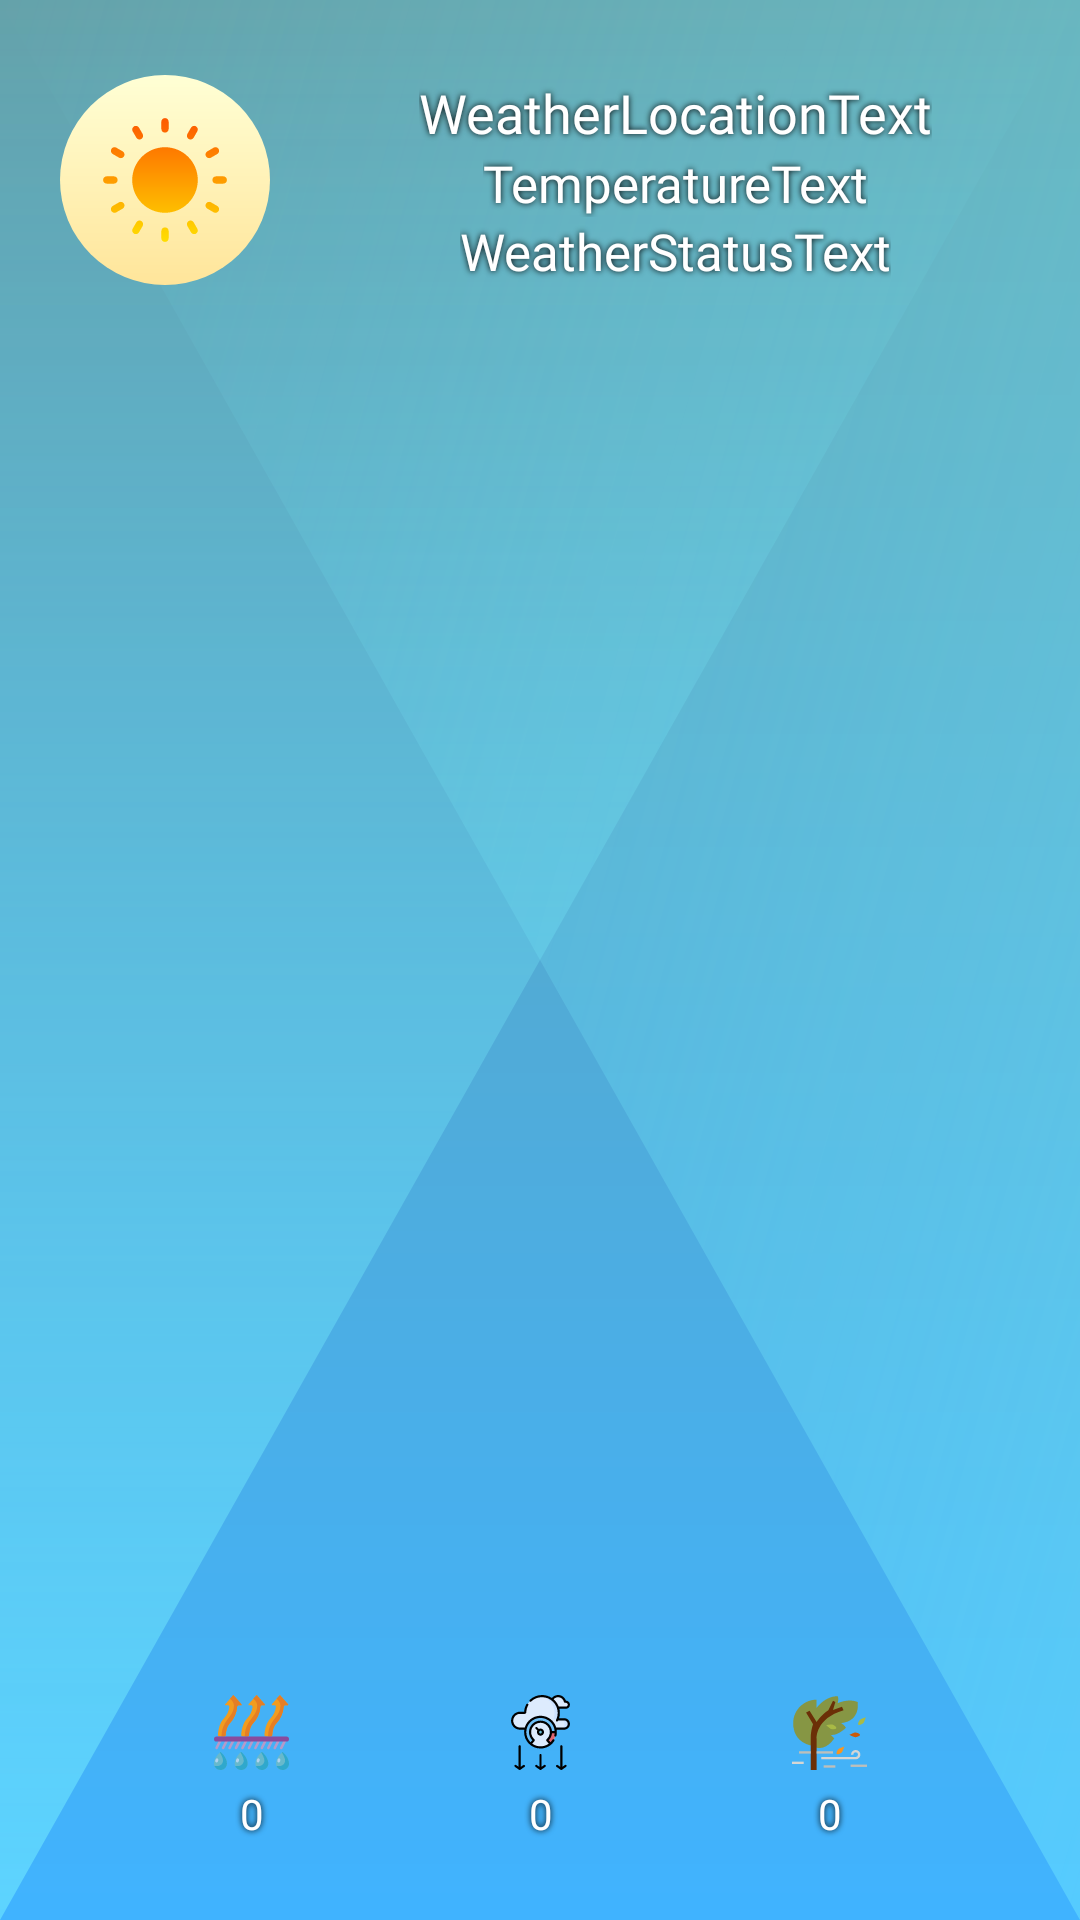

Icon bounding boxes for this 1080*1920 phone screenshot, format (x1, y1, x2, y2):
moisture: (214, 1695, 289, 1770)
pressure: (511, 1695, 570, 1770)
sunny weather: (60, 75, 270, 285)
wind: (792, 1696, 867, 1770)
